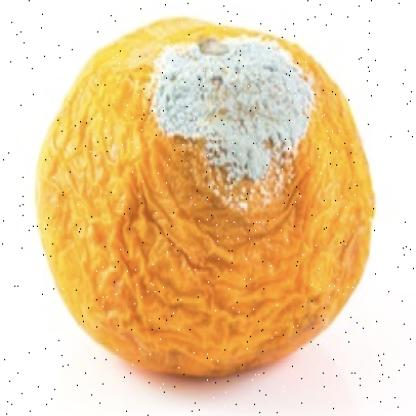rotten: (37, 17, 375, 381)
